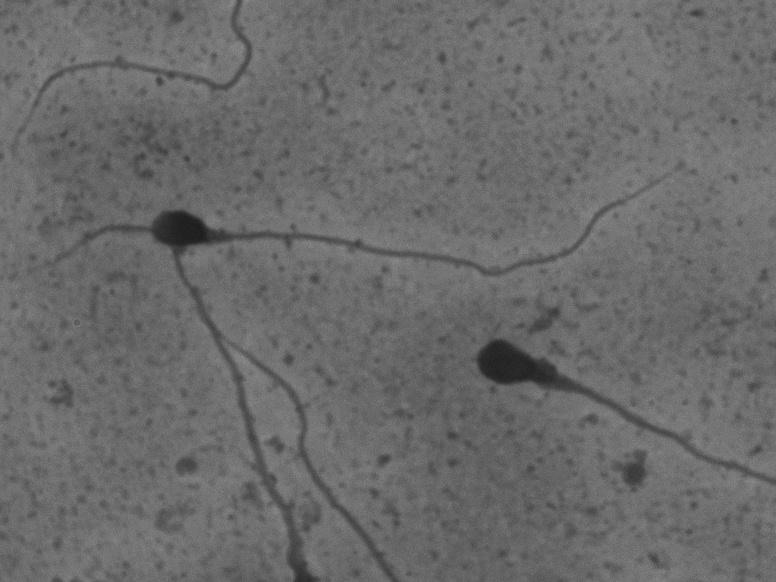Abnormal: (440, 311, 760, 512)
Normal: (146, 139, 691, 285)
